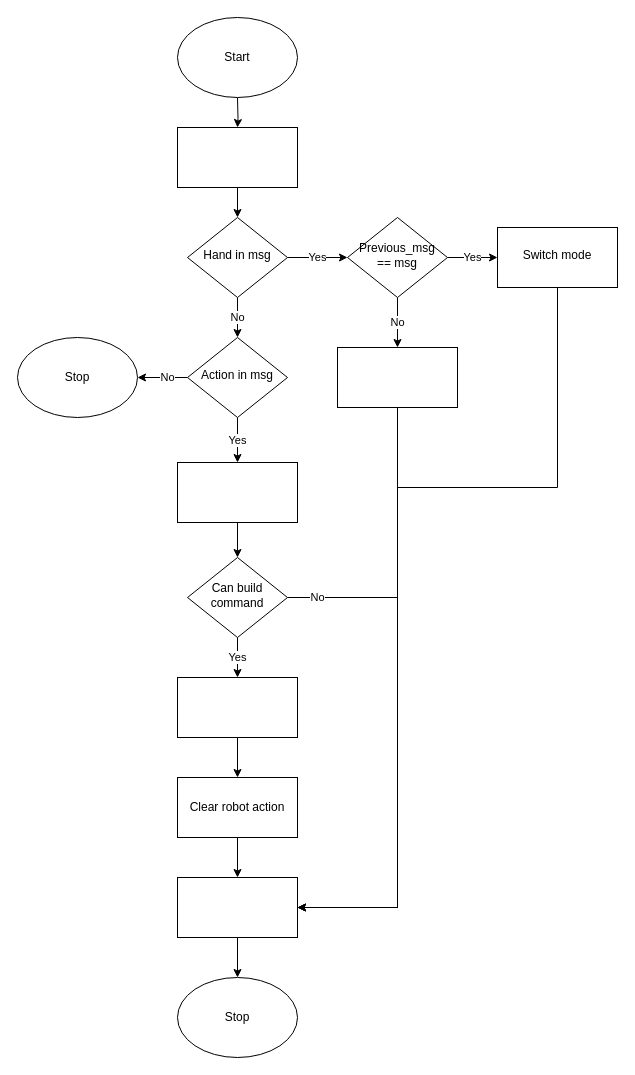
Some shapes in this 635 by 1075 pixel diagram are drawn without their labels. The box of each missing label's shape, as (x1, y1, x2, y2) in pixels:
Create and send socket command: (176, 676, 298, 738)
Message recieved: (176, 126, 298, 188)
Set robot action: (176, 462, 298, 522)
Set robot hand: (336, 346, 458, 408)
Update control module: (176, 876, 298, 938)
